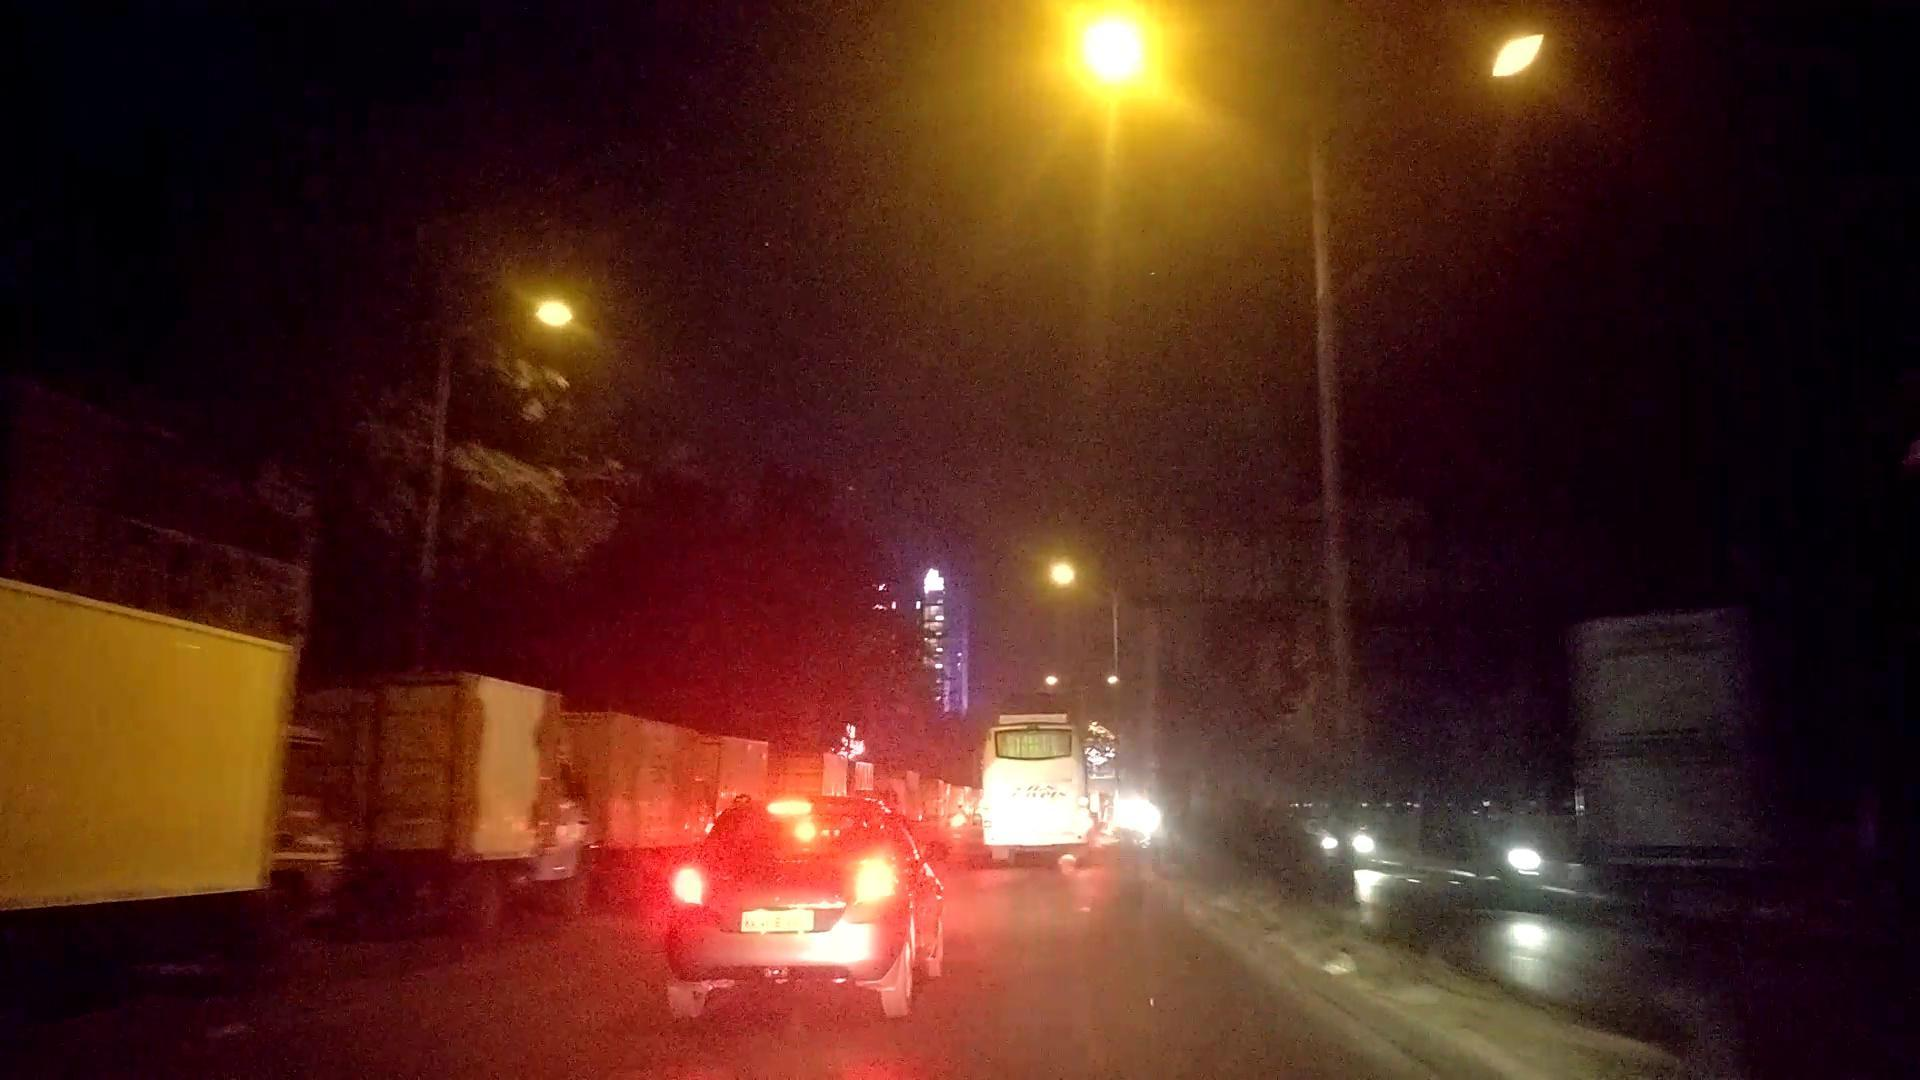on: (899, 0, 1655, 211), (440, 162, 727, 451)
